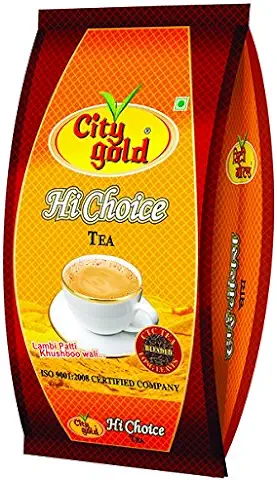Tea: (5, 7, 262, 480)
